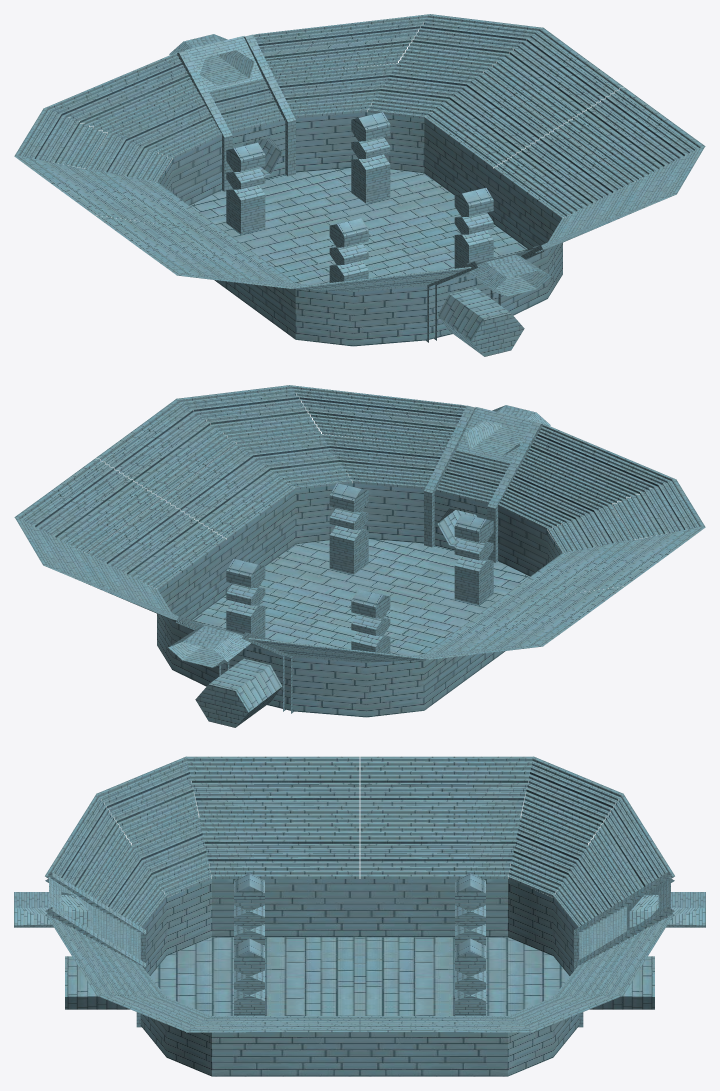
The model's file is SkayPFall_Final.fbx.
The picture shows the model from 3 angles, top to bottom: view 1: azimuth 30°, elevation 25°; view 2: azimuth 150°, elevation 25°; view 3: azimuth 270°, elevation 25°; orthographic projection. The views are drawn at different scales.
Visible parts, largest first — view 1: polySurface33; view 2: polySurface33; view 3: polySurface33.
Boxes of the visible parts, x1=… form: polySurface33: x1=14, y1=14, x2=705, y2=356; polySurface33: x1=14, y1=385, x2=705, y2=727; polySurface33: x1=14, y1=756, x2=705, y2=1076.
Size of the model in its own units: 1463 by 288 by 1549.
